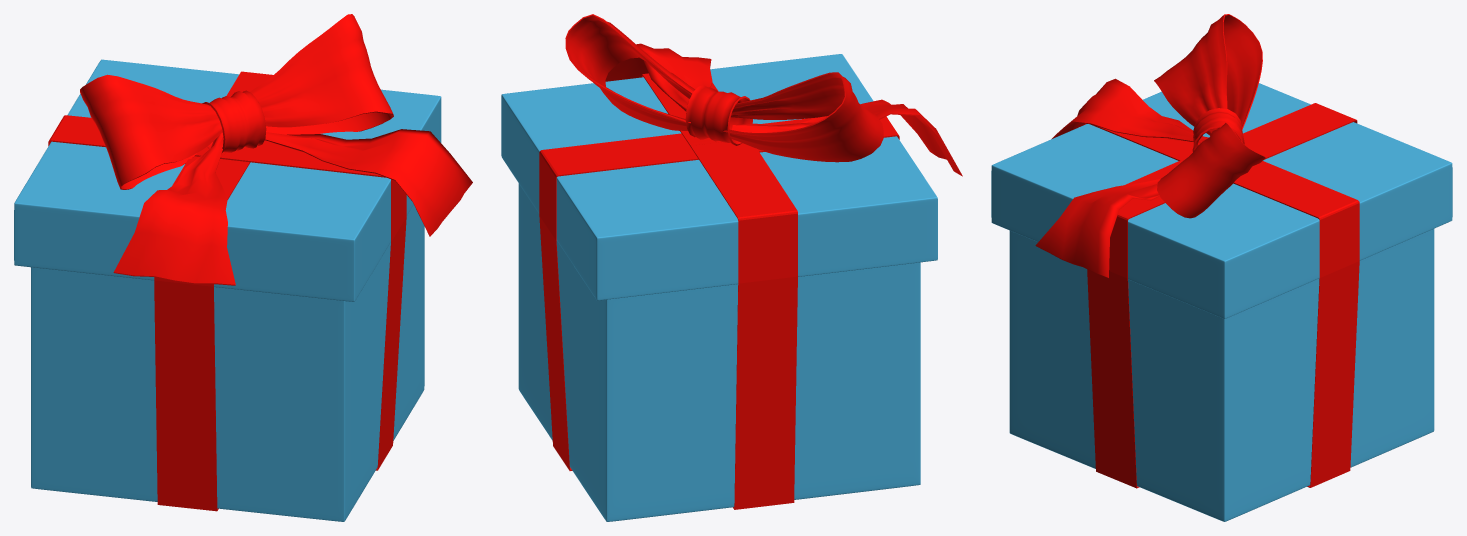
The model's file is gift5-error.glb.
The picture shows the model from 3 angles, left to right: view 1: azimuth 30°, elevation 25°; view 2: azimuth 150°, elevation 25°; view 3: azimuth 270°, elevation 25°; orthographic projection. The views are drawn at different scales.
Parts seen in each view (by area): view 1: Cube.001, Plane.006, Plane.008, Plane.001, Plane.004, Cylinder.001; view 2: Cube.001, Plane.004, Plane.006, Plane.001, Plane.008, Cylinder.001; view 3: Cube.001, Plane.001, Plane.004, Plane.006, Plane.008, Cylinder.001.
Part boxes in pixels (bbox=[...]): Cube.001: bbox=[14, 59, 441, 521]; Plane.006: bbox=[80, 14, 393, 189]; Plane.008: bbox=[113, 129, 472, 285]; Plane.001: bbox=[154, 71, 273, 511]; Plane.004: bbox=[48, 115, 406, 470]; Cylinder.001: bbox=[202, 90, 266, 152]; Cube.001: bbox=[501, 54, 937, 521]; Plane.004: bbox=[641, 73, 797, 509]; Plane.006: bbox=[565, 14, 883, 162]; Plane.001: bbox=[539, 116, 899, 470]; Plane.008: bbox=[605, 43, 962, 176]; Cylinder.001: bbox=[685, 85, 752, 145]; Cube.001: bbox=[991, 83, 1452, 521]; Plane.001: bbox=[1084, 123, 1359, 487]; Plane.004: bbox=[1087, 103, 1357, 488]; Plane.006: bbox=[1154, 14, 1265, 218]; Plane.008: bbox=[1035, 78, 1208, 278]; Cylinder.001: bbox=[1192, 108, 1244, 151].
Bounding box in the file's own units: 3.06 × 2.69 × 3.06.
